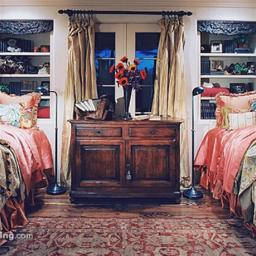Cama: (0, 91, 51, 230), (206, 93, 255, 214)
